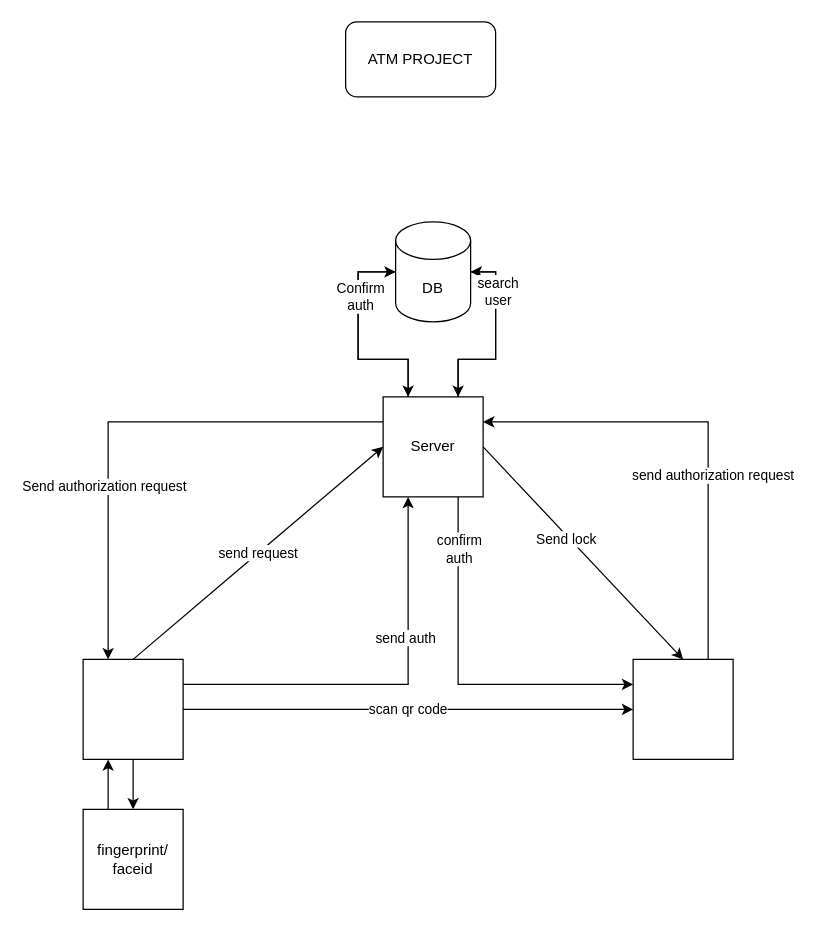
Some shapes in this 815 by 931 pixel diagram are drawn without their labels. Each missing label, with the box of its shape:
ATM: (632, 658, 733, 759)
Phone: (82, 658, 183, 759)
